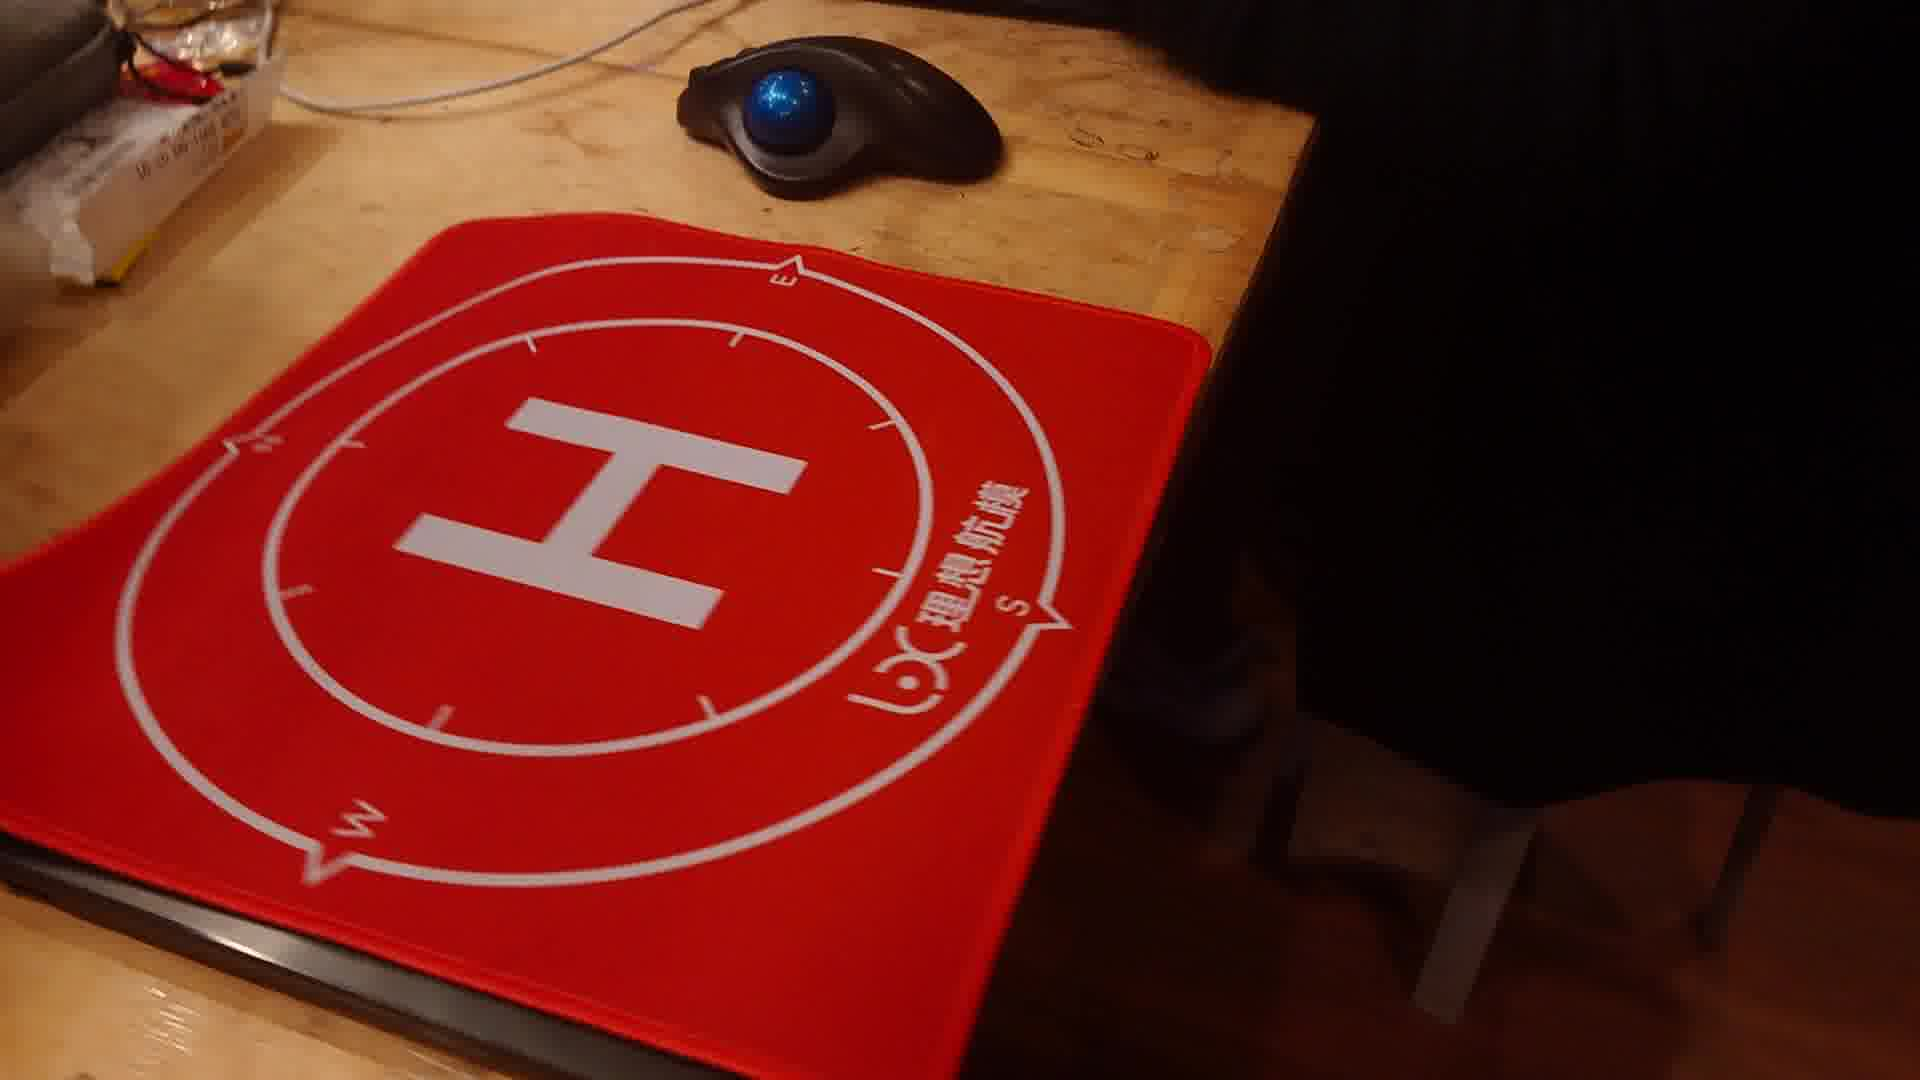H: (393, 392, 808, 630)
